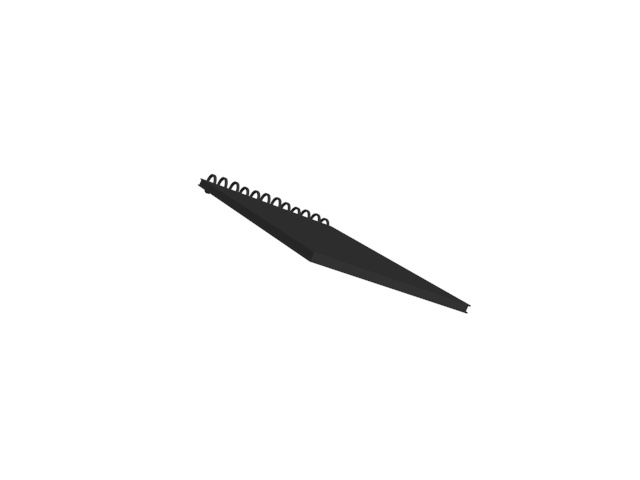paper_notebook: (193, 169, 472, 320)
